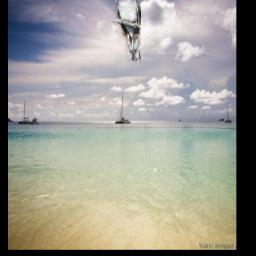Cuckoo: (112, 0, 142, 65)
